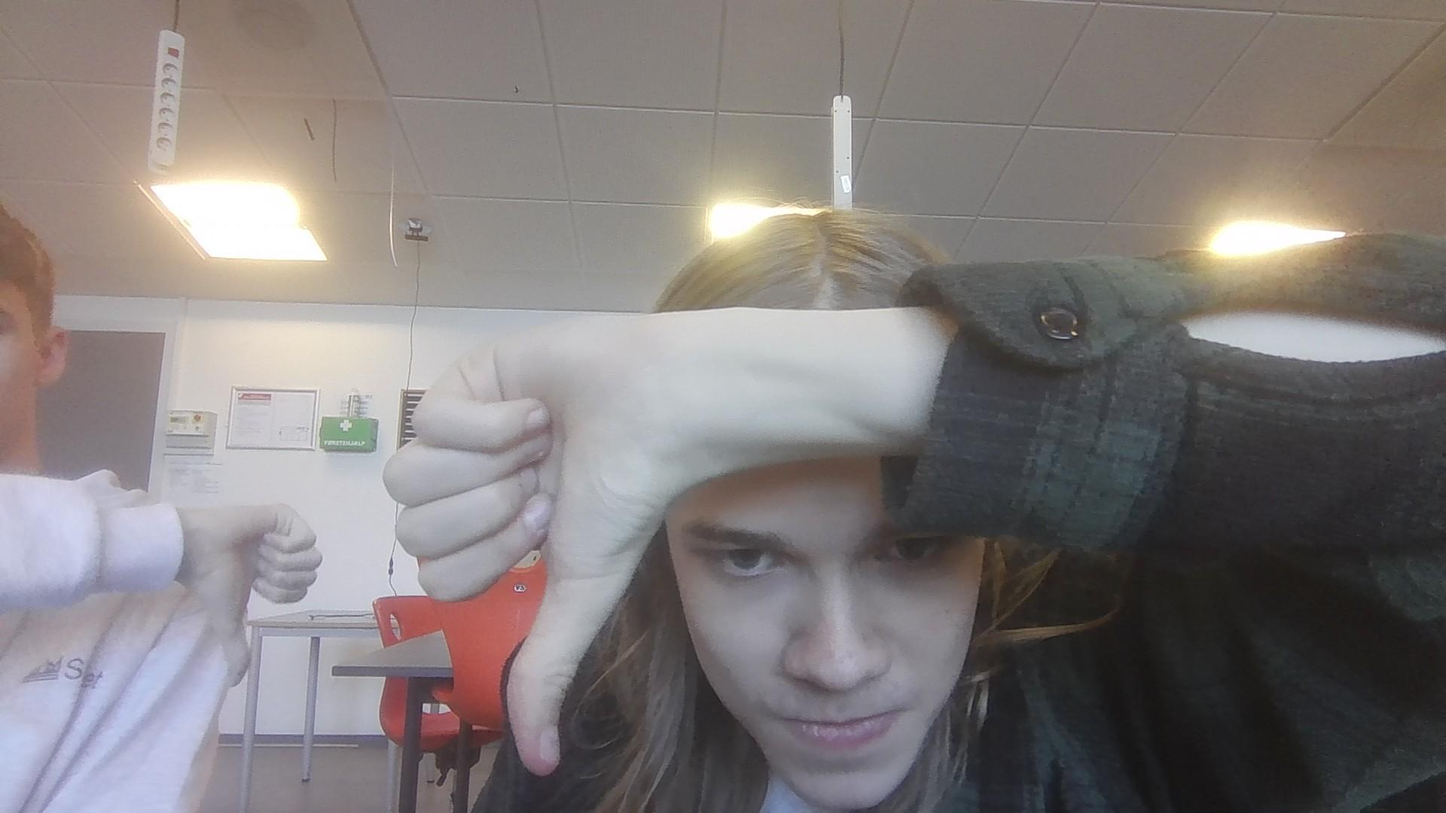thumbs down: (390, 305, 683, 784), (181, 497, 335, 694)
